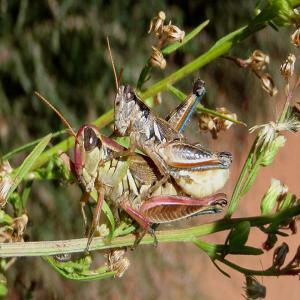locust: (107, 52, 241, 200)
